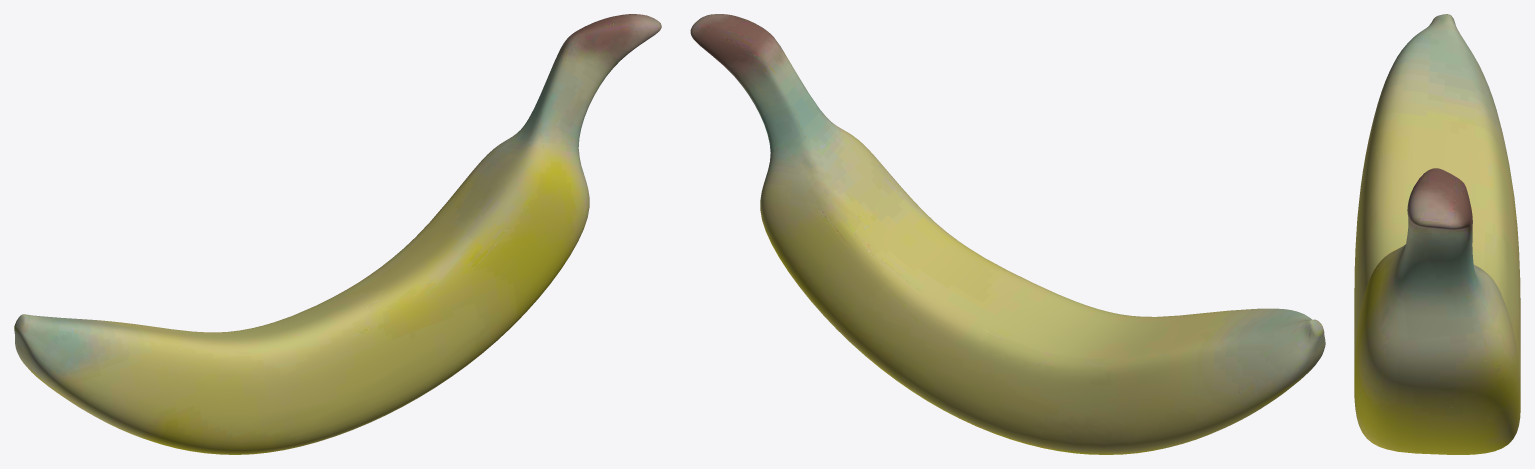
The model's file is banana_d2a33405_visual.obj.
3 views of the same model, side by side, from view 1: azimuth 30°, elevation 25°; view 2: azimuth 150°, elevation 25°; view 3: azimuth 270°, elevation 25° (orthographic). The views are drawn at different scales.
Size of the model in its own units: 0.0994 by 0.05 by 0.0174.
1 material, 1 textured.
